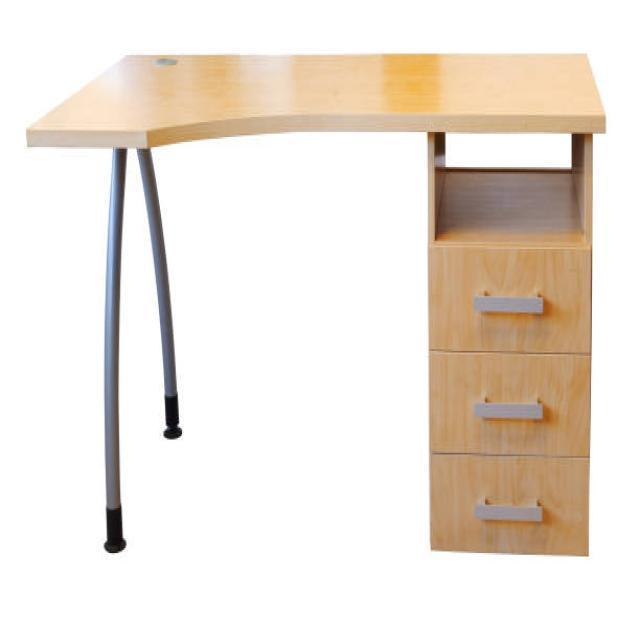table: (25, 50, 607, 557)
